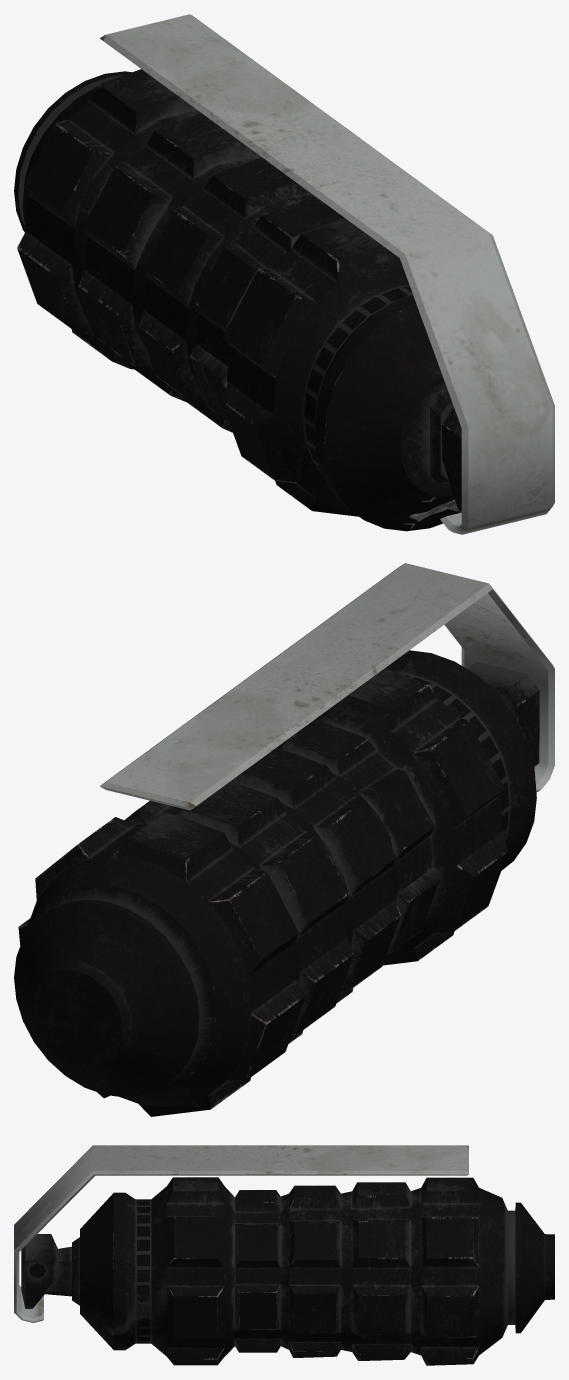
The model's file is Grenade Frag.fbx.
3 renders of one model, top to bottom at view 1: azimuth 30°, elevation 25°; view 2: azimuth 150°, elevation 25°; view 3: azimuth 270°, elevation 25°, orthographic. The views are drawn at different scales.
Visible parts, largest first — view 1: Grenade Frag; view 2: Grenade Frag; view 3: Grenade Frag.
Part boxes in pixels (x1,y1,x2,y2): Grenade Frag: (14,14,554,534); Grenade Frag: (14,563,554,1116); Grenade Frag: (14,1145,554,1365).
Size of the model in its own units: 0.0263 by 0.0316 by 0.0779.
1 material, 1 textured.
